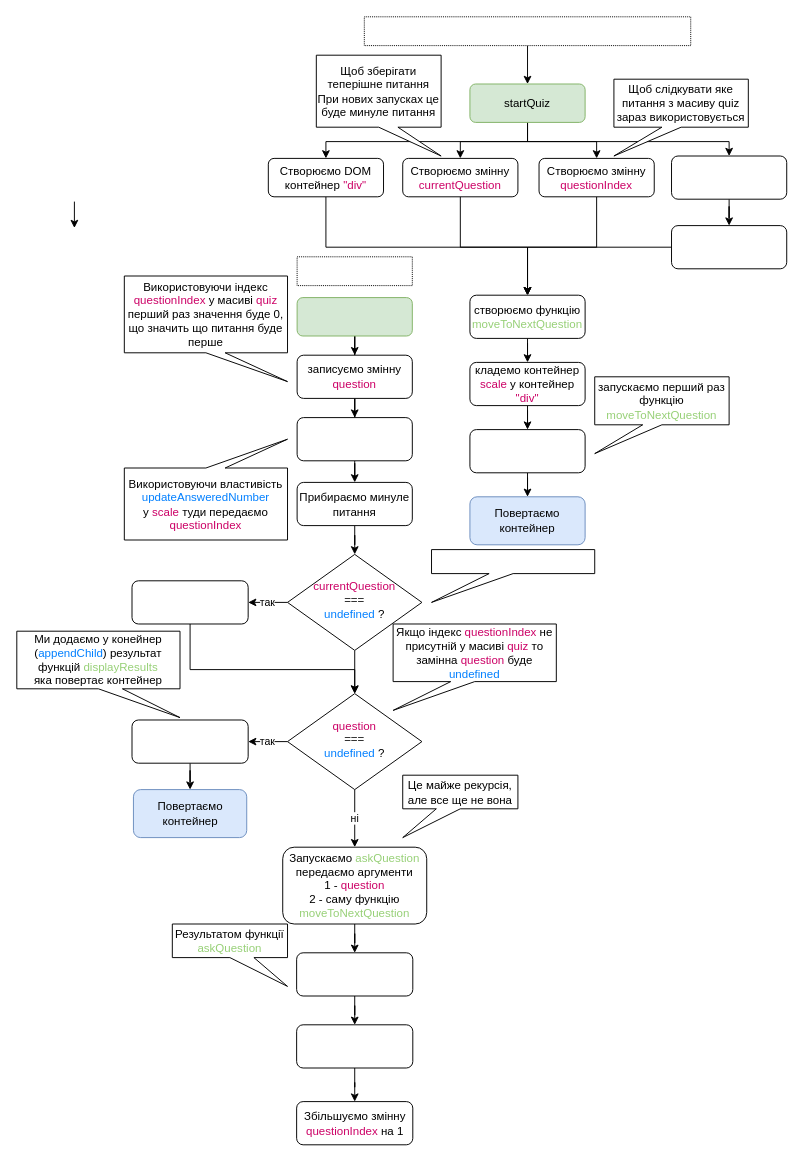
The diagram is 804 pixels wide and 1162 high, and some of its shapes have lost their labels. Each missing label, with the centre of its shape:
moveToNextQuestion: the point at 354,316
quiz: array: the point at 527,31
додаємо контейнер currentQuestion у "div": the point at 354,1046
Записуємо шкалу у змінну scale: the point at 729,247
мінаємо значення змінної currentQuestion: the point at 354,974
Показуємо результати квізу: the point at 189,741
починаємо квіз: the point at 527,451
Прибараємо currentQuestion з контейнера: the point at 189,602
Підчищаємо минуле питання: the point at 513,575
Рухаємо шкалу scale: the point at 354,439
Створюємо шкалу з допомогою функції createScale: the point at 729,177
